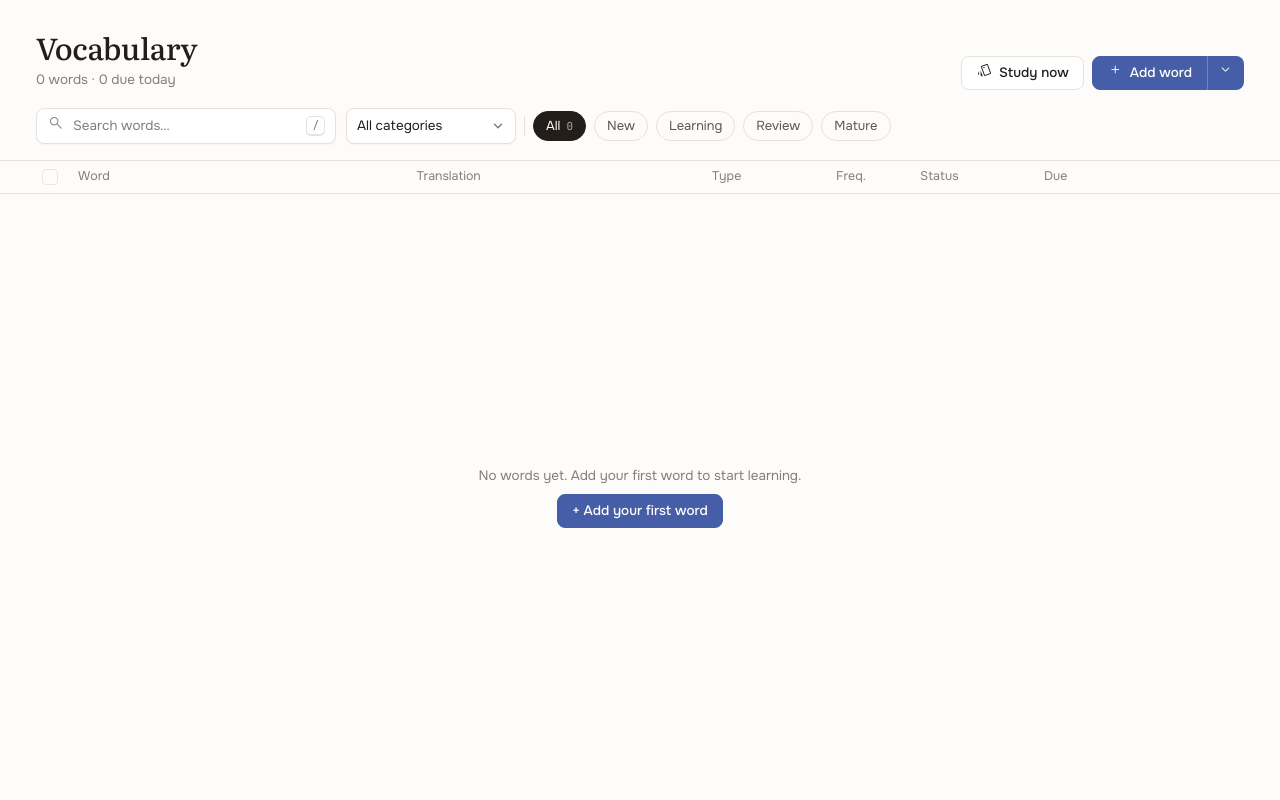
Test: VocabularyPage add split menu › opens Paste list from the split menu
Click the button named "More add options": (1226, 73) 1207,56 -> 1244,90
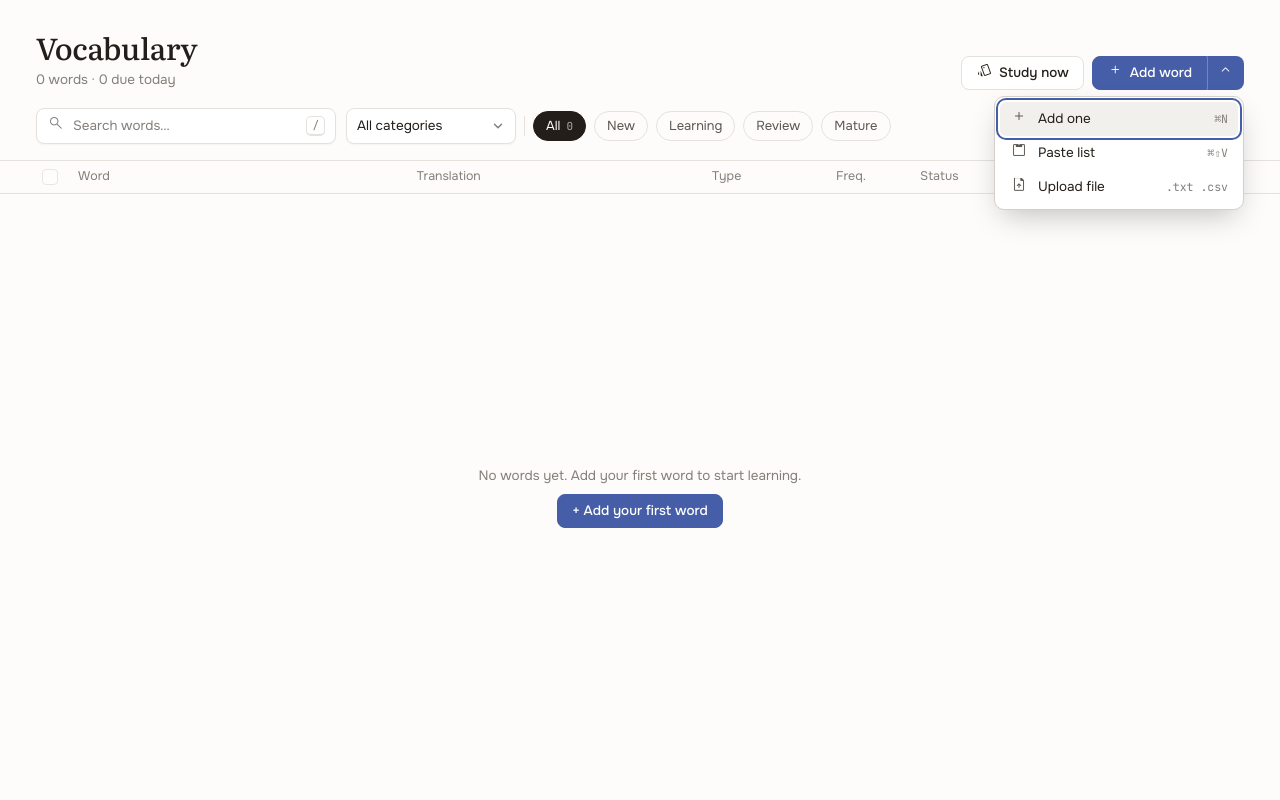
Click the menu item "Paste list ⌘⇧V": (1119, 153) 1000,136 -> 1238,170
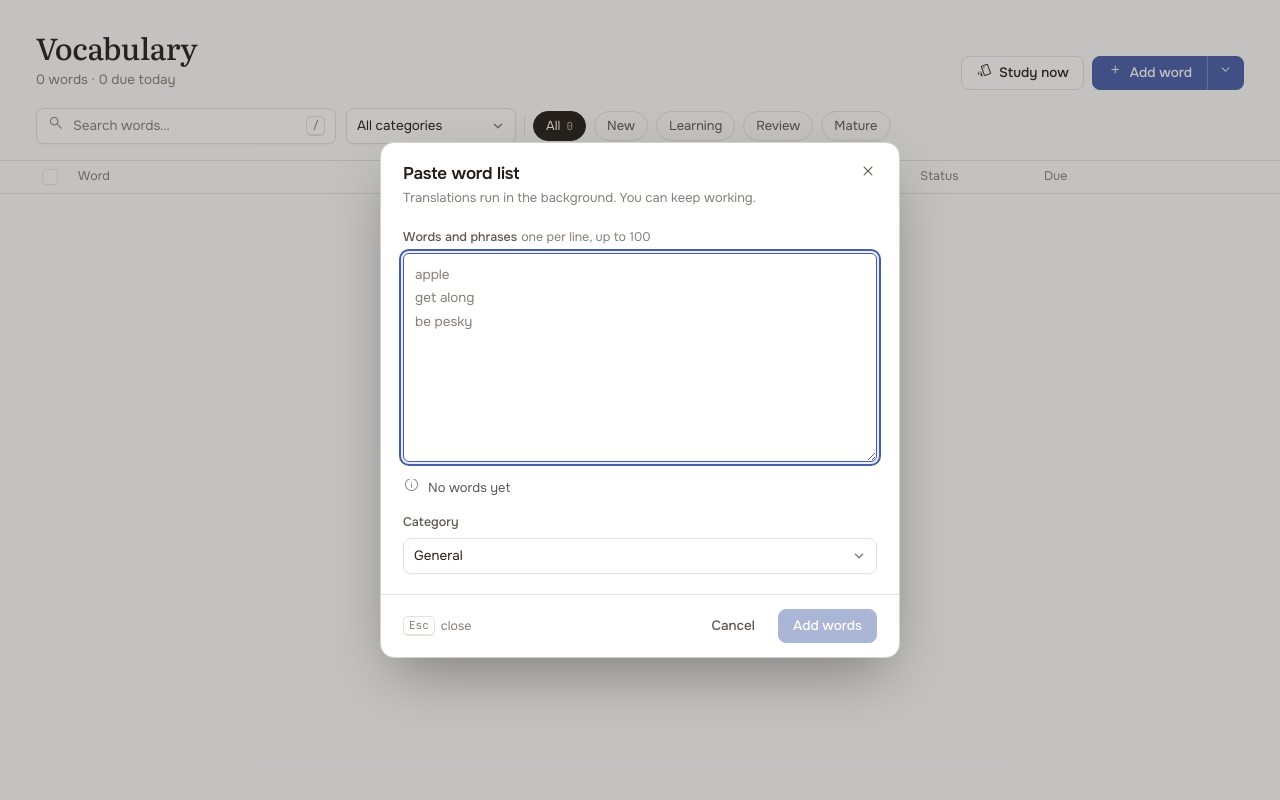
Expected: the heading "Paste word list" is shown, 403,163 -> 519,184
